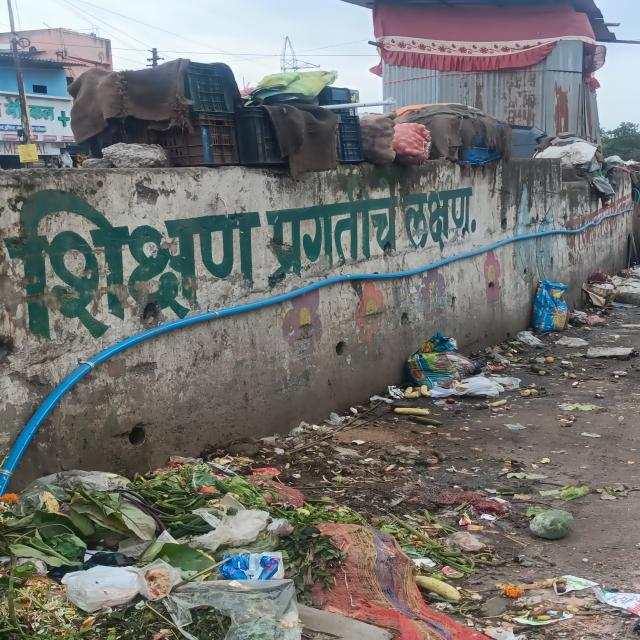garbage: (2, 463, 553, 640), (388, 341, 542, 421), (573, 269, 640, 329)
